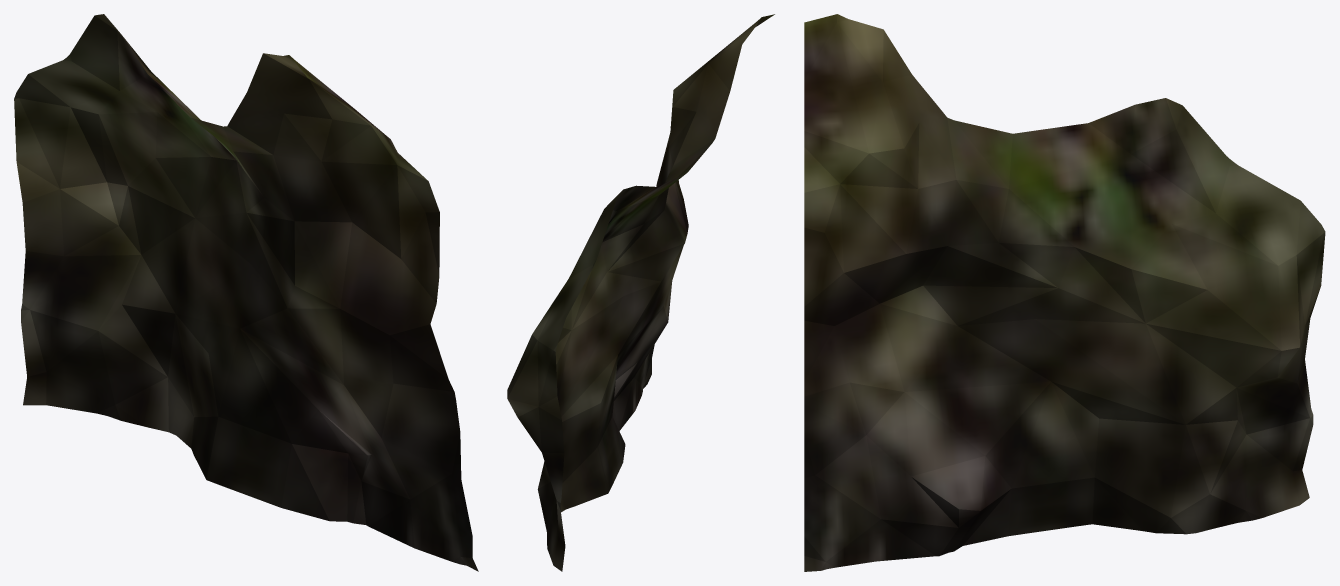
The picture shows the model from 3 angles, left to right: view 1: azimuth 30°, elevation 25°; view 2: azimuth 150°, elevation 25°; view 3: azimuth 270°, elevation 25°; orthographic projection. The views are drawn at different scales.
Size of the model in its own units: 0.0911 by 0.2773 by 0.2707.
Materials: 1 (1 with a texture image).
